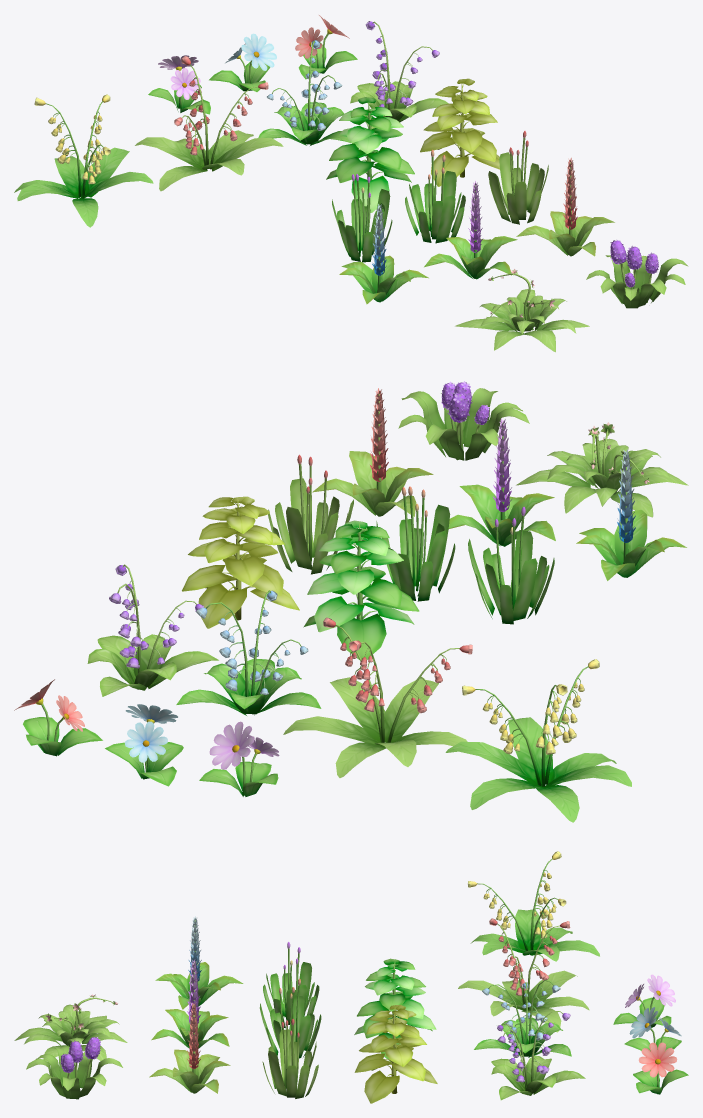
Rendered from flowers_pack_1.fbx.
3 renders of one model, top to bottom at view 1: azimuth 30°, elevation 25°; view 2: azimuth 150°, elevation 25°; view 3: azimuth 270°, elevation 25°, orthographic. The views are drawn at different scales.
Visible parts, largest first — view 1: Plane.021, Plane.013, Plane.001, Plane.012, Plane.036, Cylinder.003, Plane.030, Plane.019, Plane.022, Plane.156, Cylinder.001, Cylinder.004 (+5 smaller); view 2: Plane.021, Plane.001, Plane.013, Plane.012, Plane.036, Plane.019, Plane.156, Cylinder.003, Plane.031, Plane.022, Plane.030, Cylinder.001 (+5 smaller); view 3: Plane.012, Plane.021, Plane.001, Plane.013, Cylinder.003, Plane.156, Plane.036, Plane.019, Plane.022, Cylinder.001, Plane.031, Cylinder.004 (+5 smaller).
Part boxes in pixels (x1=…): Plane.021: x1=14, y1=94, x2=153, y2=227; Plane.013: x1=326, y1=97, x2=414, y2=212; Plane.001: x1=135, y1=56, x2=283, y2=191; Plane.012: x1=420, y1=78, x2=499, y2=186; Plane.036: x1=455, y1=269, x2=589, y2=352; Cylinder.003: x1=586, y1=240, x2=688, y2=308; Plane.030: x1=405, y1=149, x2=465, y2=243; Plane.019: x1=258, y1=40, x2=354, y2=145; Plane.022: x1=488, y1=131, x2=548, y2=224; Plane.156: x1=350, y1=21, x2=448, y2=128; Cylinder.001: x1=516, y1=157, x2=614, y2=256; Cylinder.004: x1=424, y1=181, x2=517, y2=279; Plane.021: x1=445, y1=659, x2=631, y2=822; Plane.001: x1=283, y1=617, x2=472, y2=777; Plane.013: x1=303, y1=520, x2=419, y2=659; Plane.012: x1=182, y1=496, x2=299, y2=628; Plane.036: x1=516, y1=422, x2=688, y2=517; Plane.019: x1=176, y1=590, x2=321, y2=715; Plane.156: x1=87, y1=564, x2=218, y2=696; Cylinder.003: x1=398, y1=381, x2=529, y2=460; Plane.031: x1=468, y1=507, x2=554, y2=624; Plane.022: x1=268, y1=454, x2=353, y2=574; Plane.030: x1=376, y1=486, x2=455, y2=601; Cylinder.001: x1=312, y1=388, x2=433, y2=516; Plane.012: x1=354, y1=1005, x2=437, y2=1103; Plane.021: x1=468, y1=851, x2=599, y2=961; Plane.001: x1=458, y1=918, x2=589, y2=1032; Plane.013: x1=354, y1=958, x2=436, y2=1061; Cylinder.003: x1=26, y1=1037, x2=122, y2=1099; Plane.156: x1=491, y1=1011, x2=585, y2=1100; Plane.036: x1=14, y1=994, x2=127, y2=1060; Plane.019: x1=474, y1=980, x2=571, y2=1057; Plane.022: x1=262, y1=1019, x2=318, y2=1098; Cylinder.001: x1=149, y1=1003, x2=230, y2=1093; Plane.031: x1=263, y1=942, x2=319, y2=1028; Cylinder.004: x1=151, y1=959, x2=229, y2=1048.
Size of the model in its own units: 896 by 197 by 1335.
Materials: 17 (17 with a texture image).
